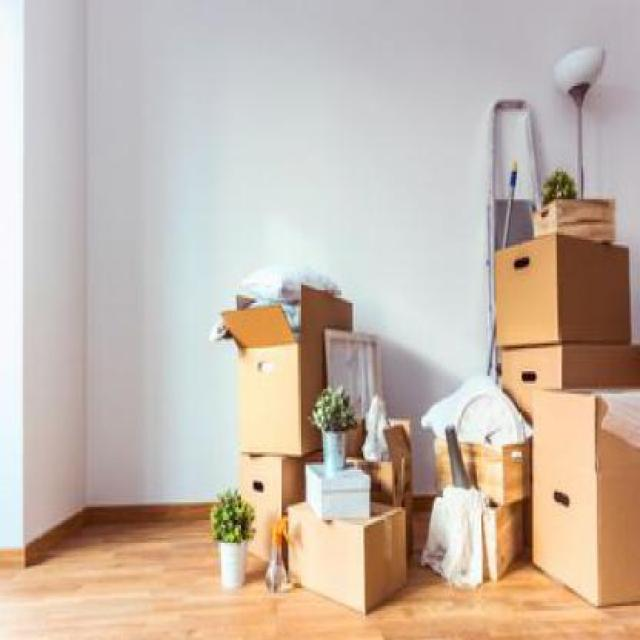box: (528, 389, 638, 640), (498, 348, 638, 538), (281, 474, 418, 640), (487, 230, 640, 364), (228, 292, 349, 450), (423, 488, 534, 600), (214, 432, 288, 568), (430, 409, 536, 500), (522, 177, 621, 270)
